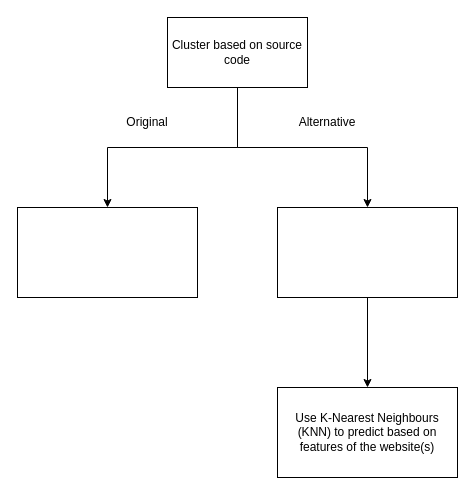
The diagram is 475 pixels wide and 495 high, and some of its shapes have lost their labels. The centre of each missing label's shape, as x and y in pixels:
"Extract features from the phishing websites" goes at (367,252).
"Predict based on source code with prefitted K-Means Model" goes at (107,252).
